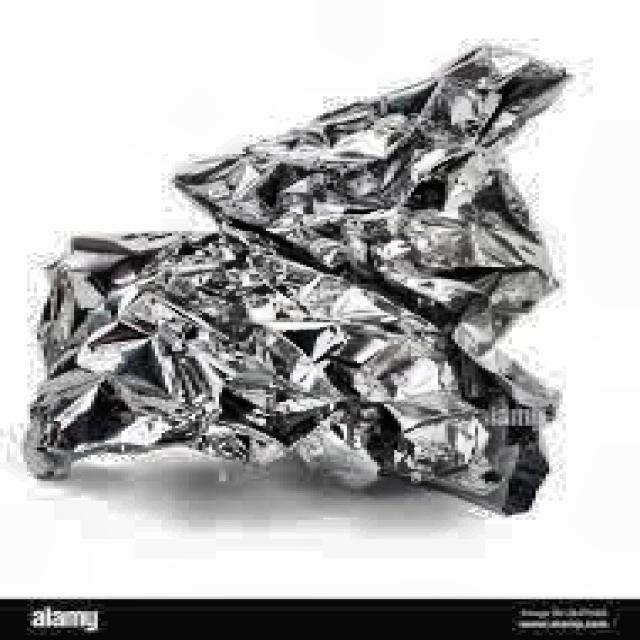Foil: (31, 47, 583, 514)
